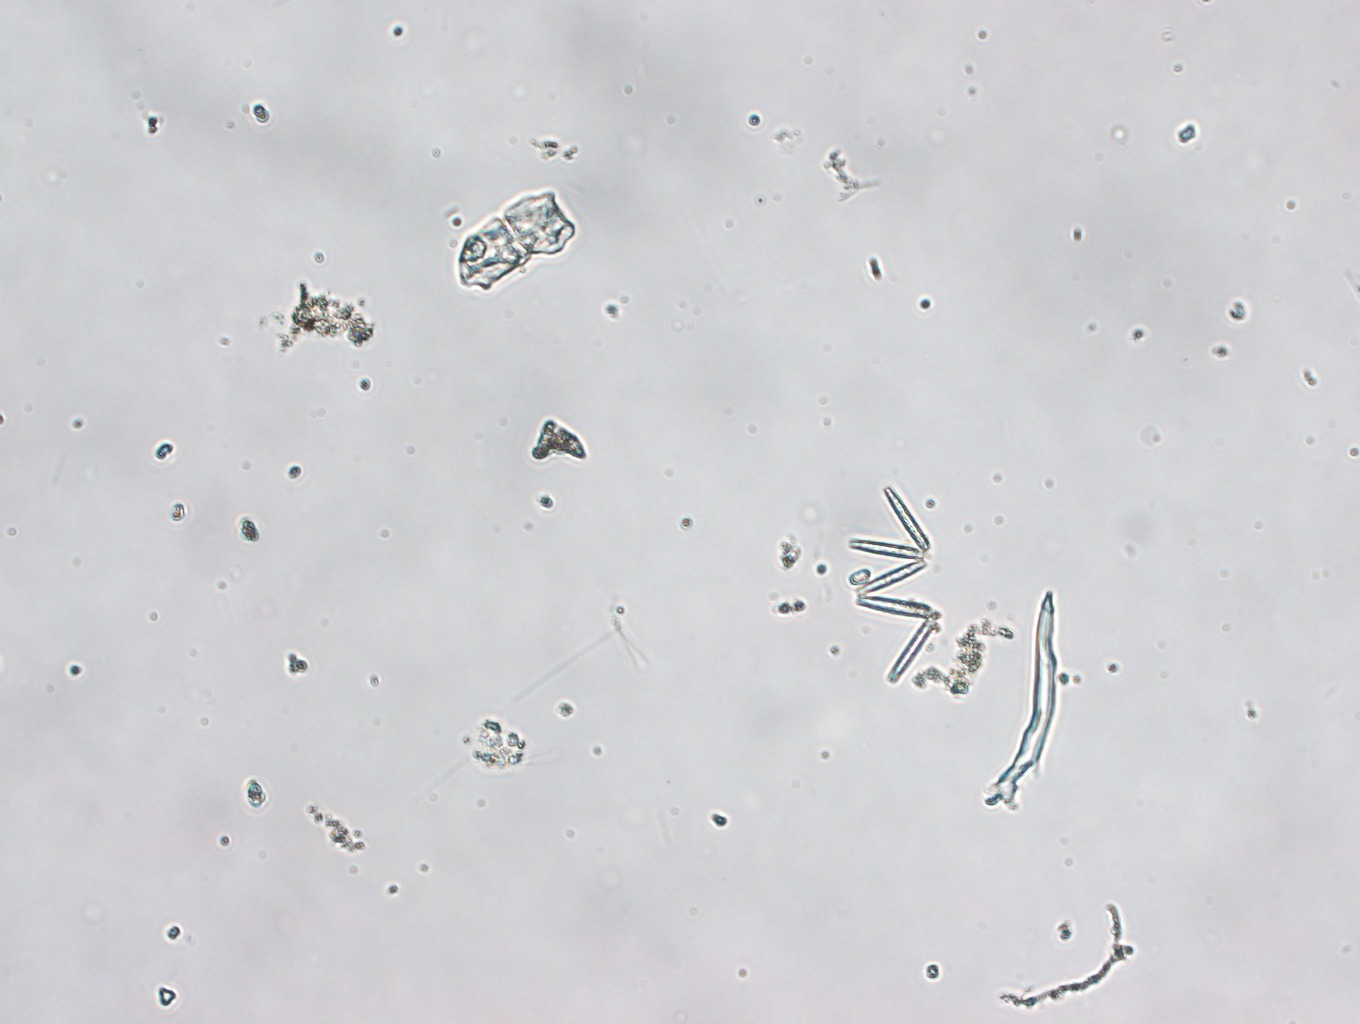thalassionema nitzschioides: (846, 480, 947, 689)
